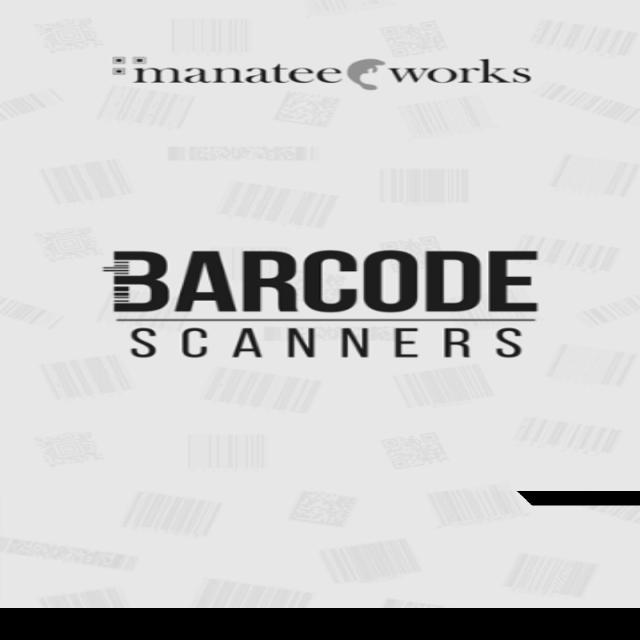ImageView: (343, 55, 385, 89)
TextView: (102, 244, 550, 364), (390, 53, 552, 85), (134, 64, 338, 86)
